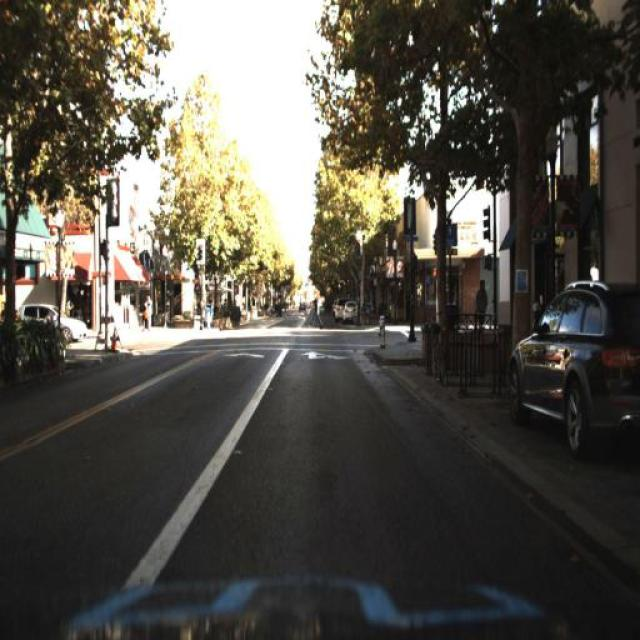car: (509, 255, 639, 454), (9, 291, 89, 360), (342, 296, 361, 329), (332, 294, 343, 330)
trafficLight: (472, 276, 489, 324), (306, 282, 320, 338), (474, 279, 490, 327), (143, 290, 155, 334), (140, 303, 151, 338)
trafficLight-RedLeft: (352, 231, 363, 264), (194, 238, 205, 264)
